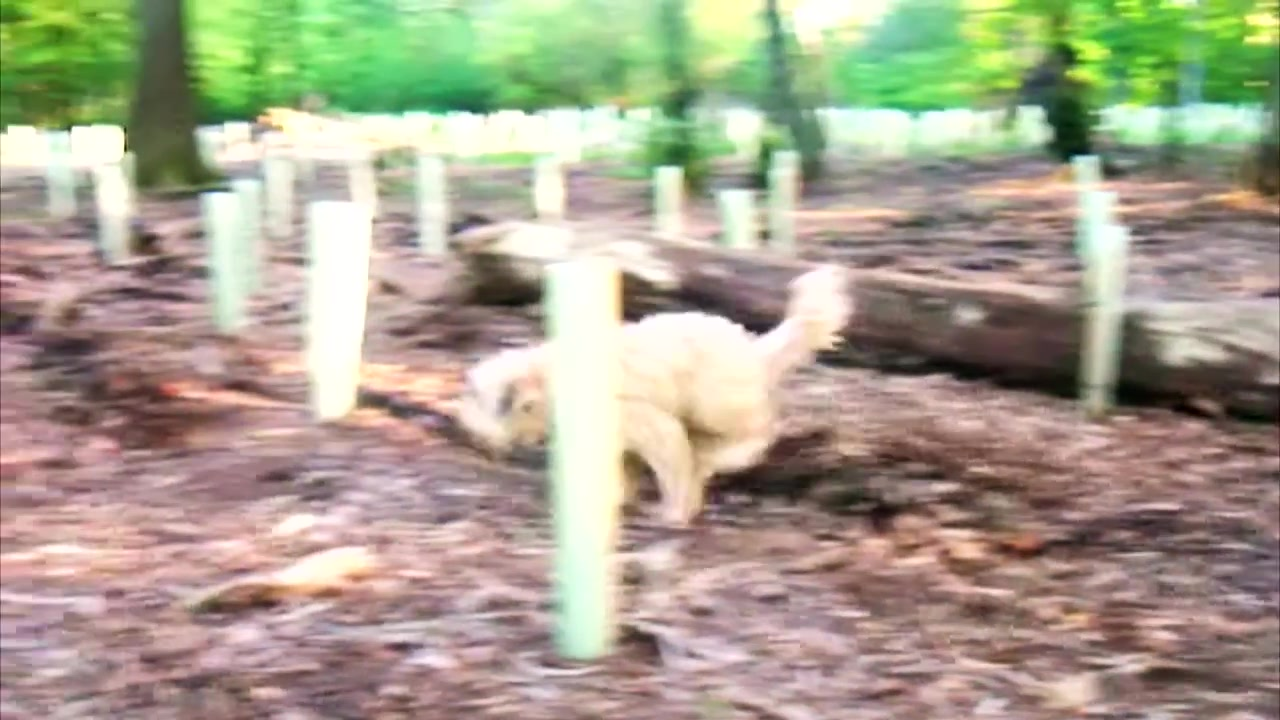dog: (453, 258, 857, 528)
